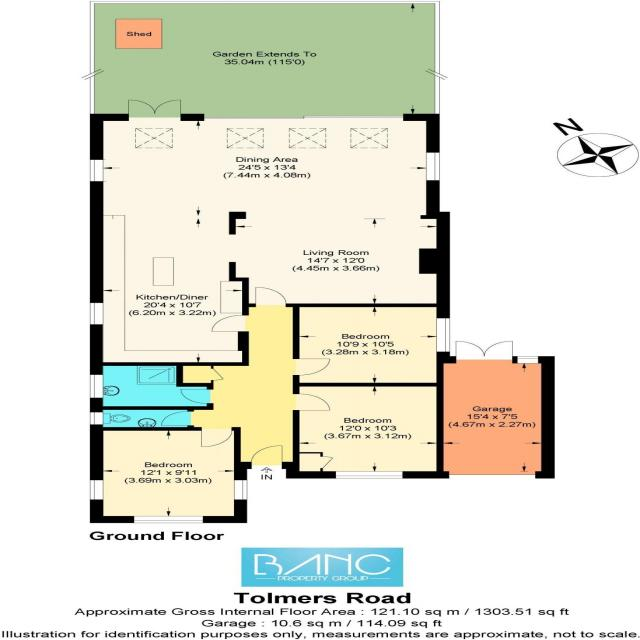DOOR: (250, 445, 283, 469), (210, 314, 250, 332), (254, 286, 288, 307), (292, 393, 331, 411), (292, 358, 331, 376), (200, 427, 233, 448), (178, 389, 214, 404), (160, 411, 194, 426)
DOUBLE DOOR: (452, 340, 518, 363), (124, 96, 186, 120)
ROOM: (90, 97, 451, 366), (90, 427, 248, 523), (293, 383, 444, 479), (292, 303, 451, 387)
SLIDING DOOR: (201, 113, 405, 121)
WINDOW: (435, 317, 451, 353), (133, 515, 204, 523), (335, 471, 404, 479), (425, 152, 441, 181), (89, 374, 104, 399), (89, 302, 104, 325), (89, 159, 104, 182), (233, 480, 248, 500), (89, 480, 104, 500), (89, 412, 104, 425)
